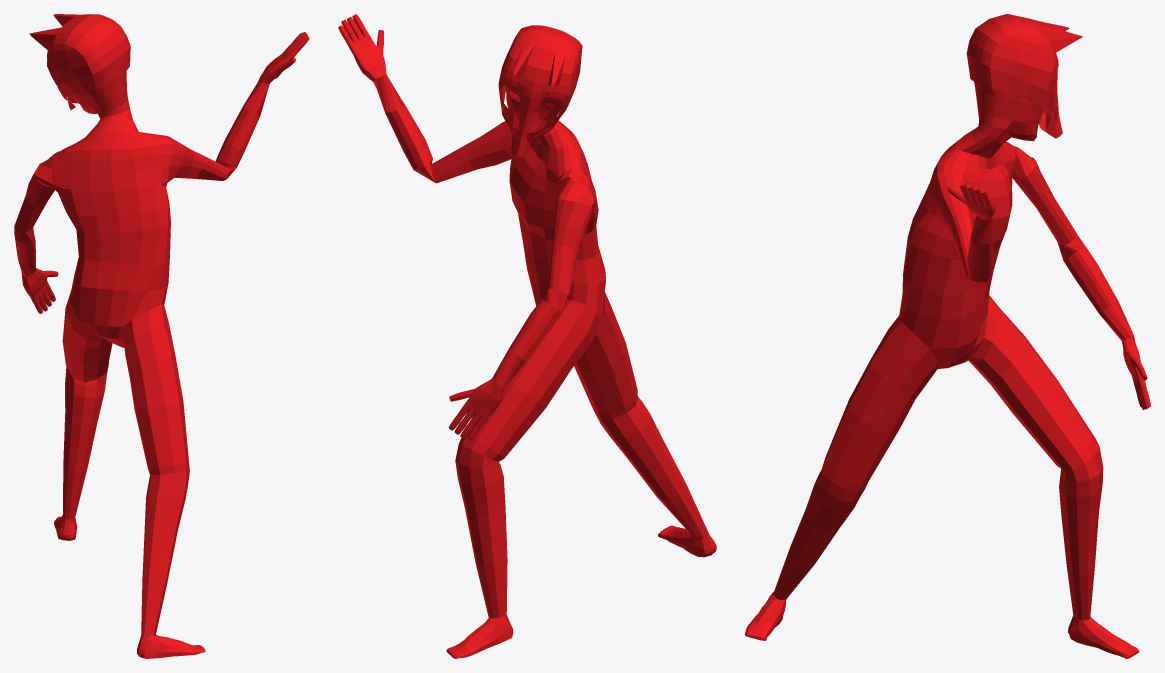
The model's file is activaAlarma_000155.obj.
3 views of the same model, side by side, from view 1: azimuth 30°, elevation 25°; view 2: azimuth 150°, elevation 25°; view 3: azimuth 270°, elevation 25° (orthographic). The views are drawn at different scales.
Visible parts, largest first — view 1: Plane.002_Plane.001; view 2: Plane.002_Plane.001; view 3: Plane.002_Plane.001.
Boxes of the visible parts, x1,y1,x2,y2 form: Plane.002_Plane.001: [14, 14, 309, 658]; Plane.002_Plane.001: [338, 14, 716, 658]; Plane.002_Plane.001: [745, 14, 1150, 658].
Bounding box in the file's own units: 3.23 × 6.62 × 3.89.
